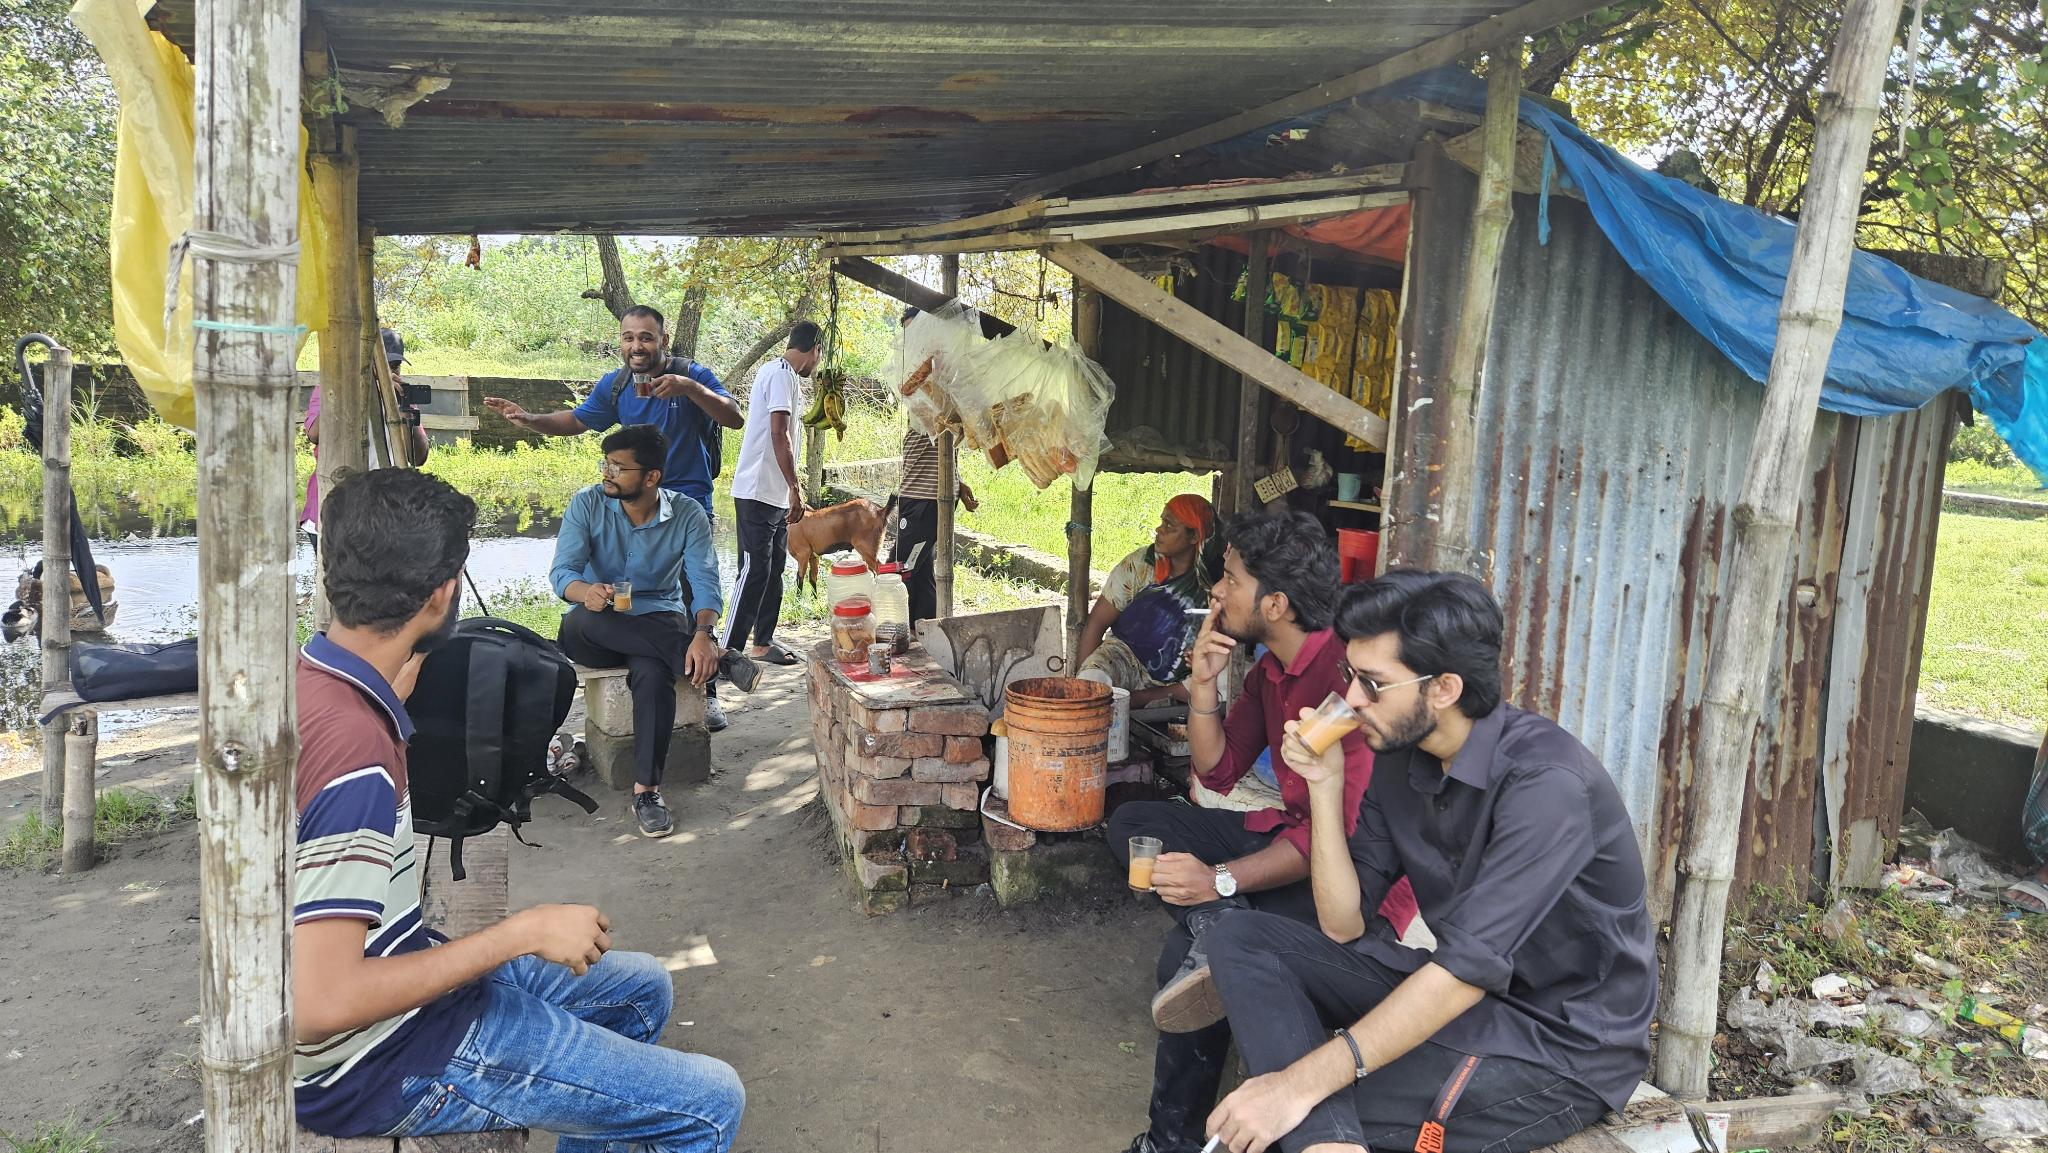cigarette: (1198, 1131, 1222, 1153), (1180, 606, 1214, 616)
nonSmoker: (293, 467, 745, 1153), (550, 426, 765, 838), (482, 305, 745, 537), (717, 319, 823, 665), (1077, 494, 1218, 710)
smoker: (1204, 567, 1660, 1153), (1107, 512, 1373, 1153)
